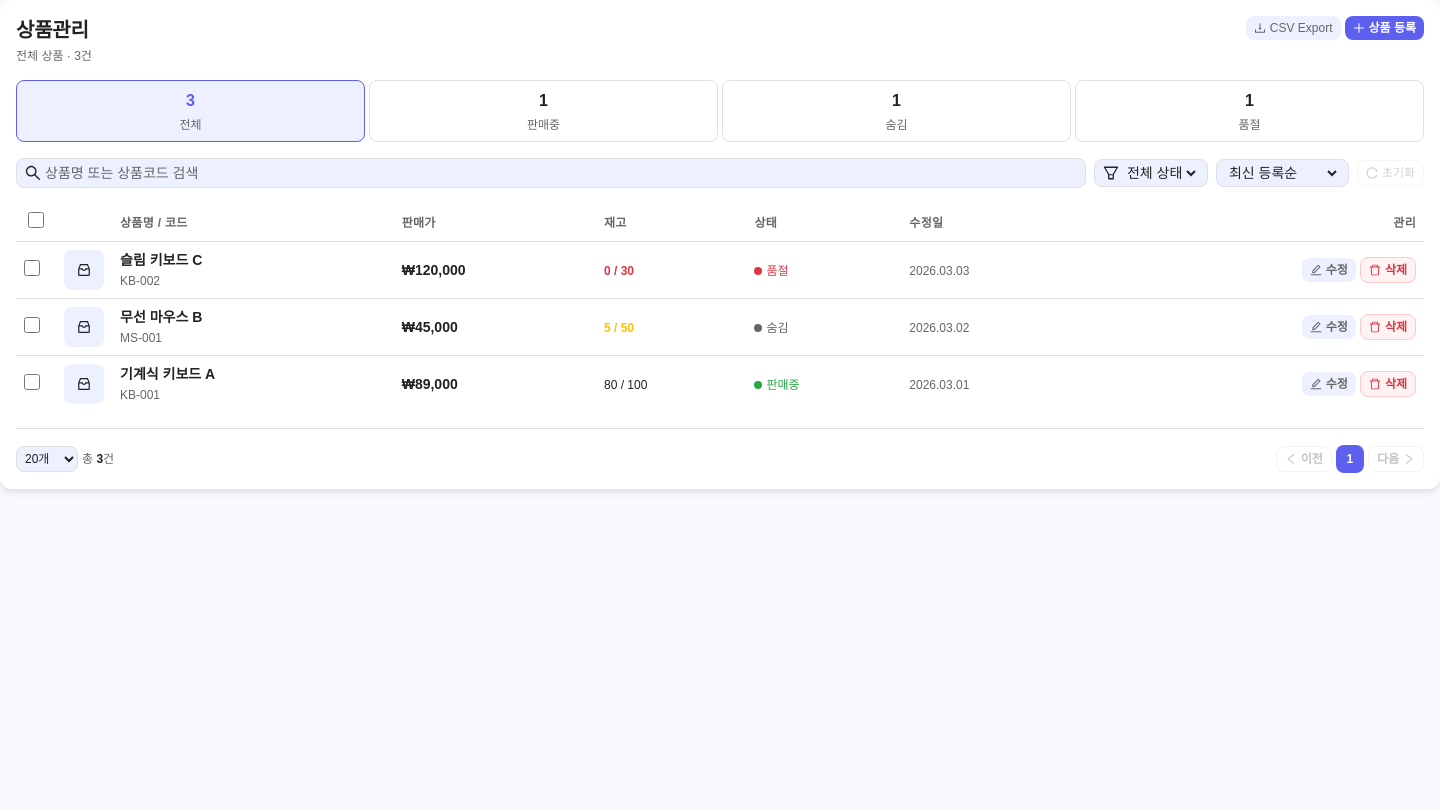
Test: 일괄 상태 변경 › 상태 변경 옵션 클릭 시 확인 모달이 열린다
Click the checkbox named "현재 페이지 전체 선택" at (36, 220), box [28, 212, 44, 228]
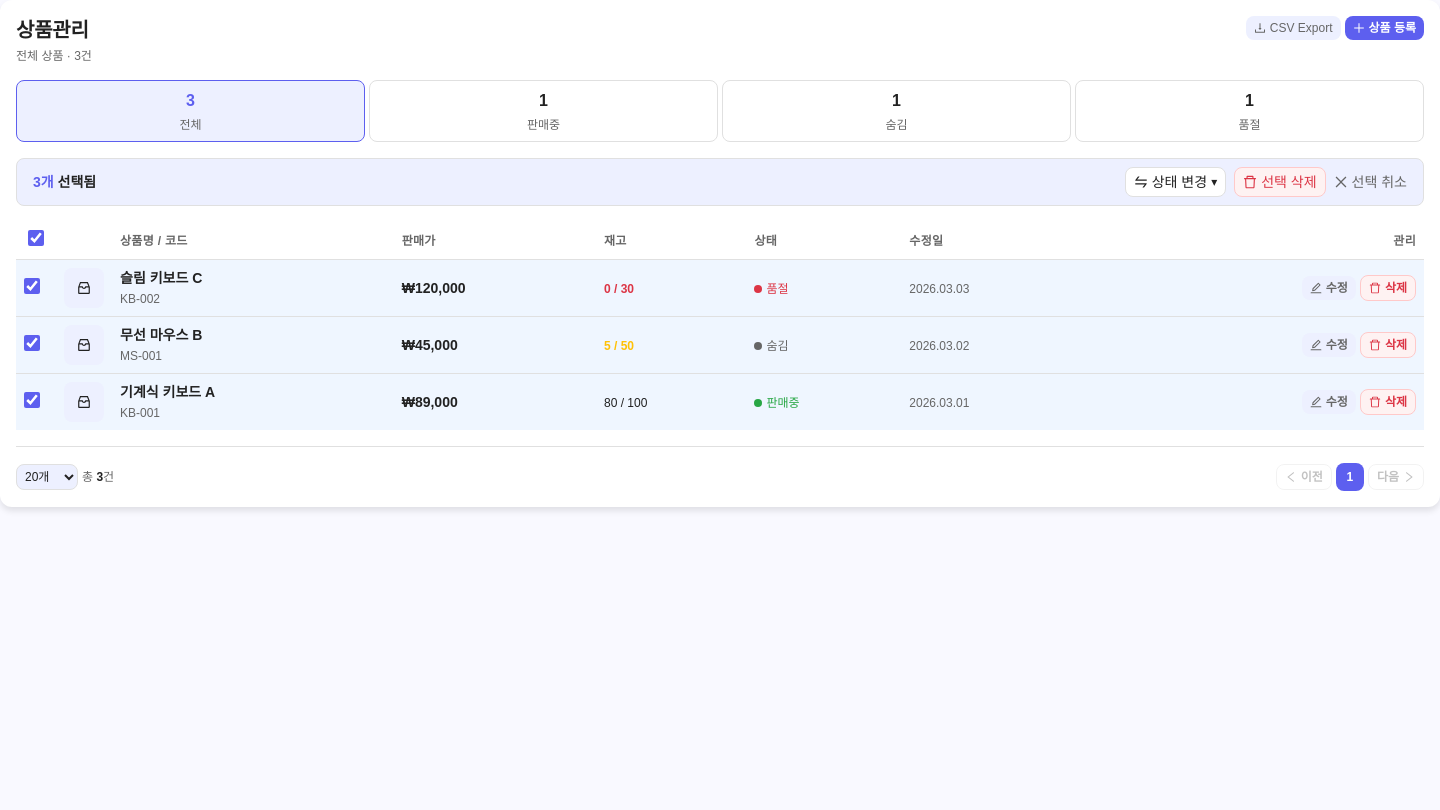
Click the button "상태 변경 ▾" at (1175, 182), box [1125, 167, 1226, 197]
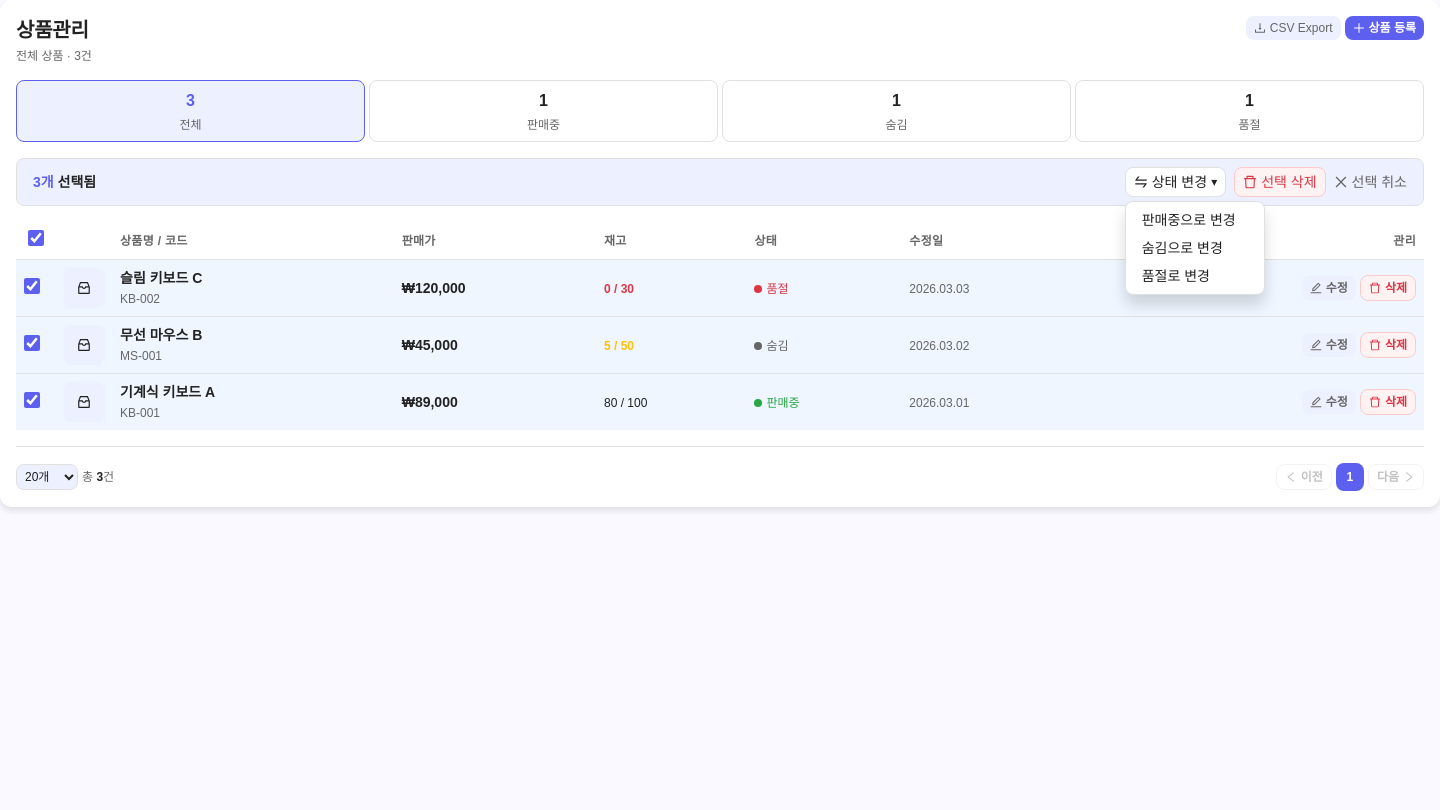
Click the menu item "판매중으로 변경" at (1195, 220), box [1126, 206, 1264, 234]
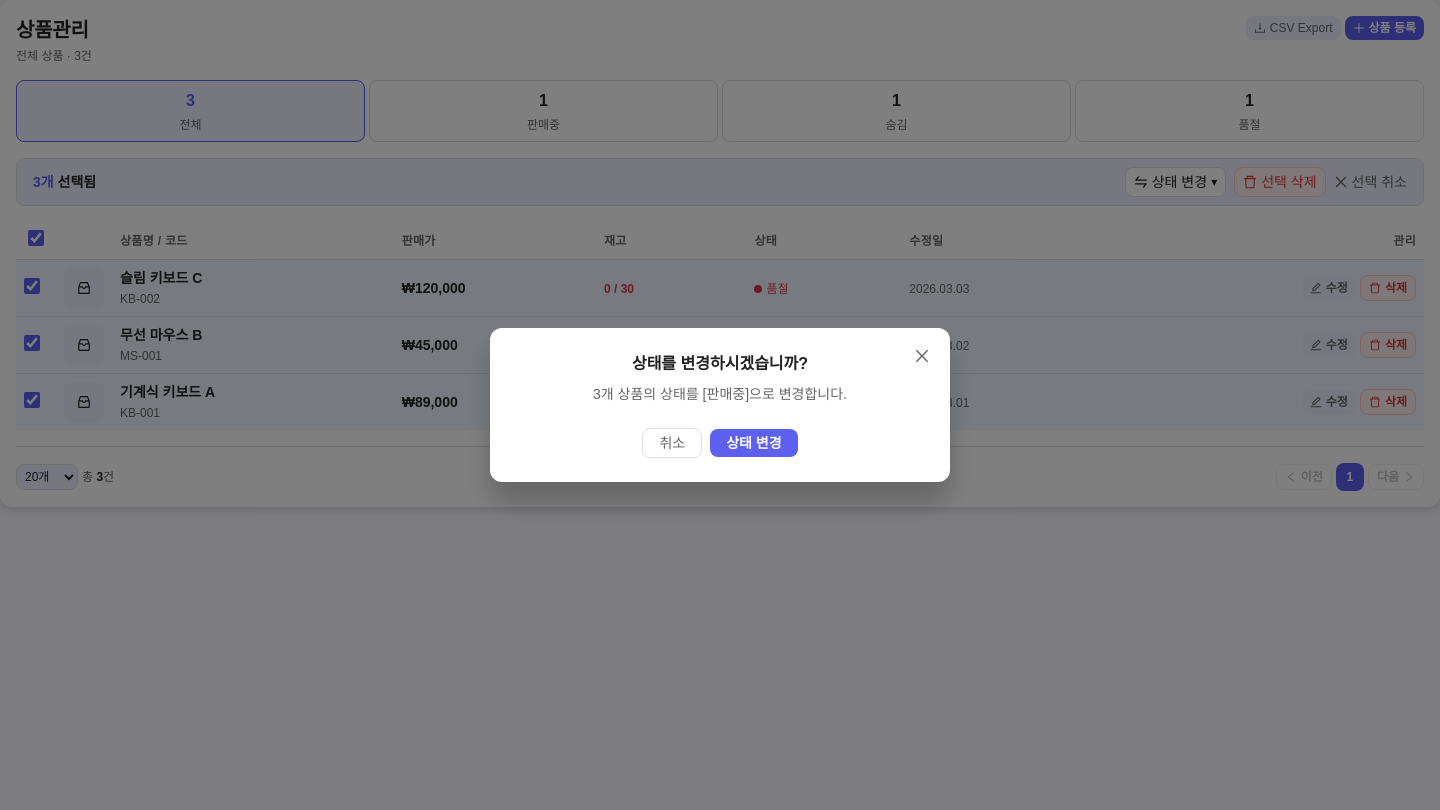
Expected: the dialog is shown
Expected: the heading "상태를 변경하시겠습니까?" is shown, [632, 355, 808, 372]
